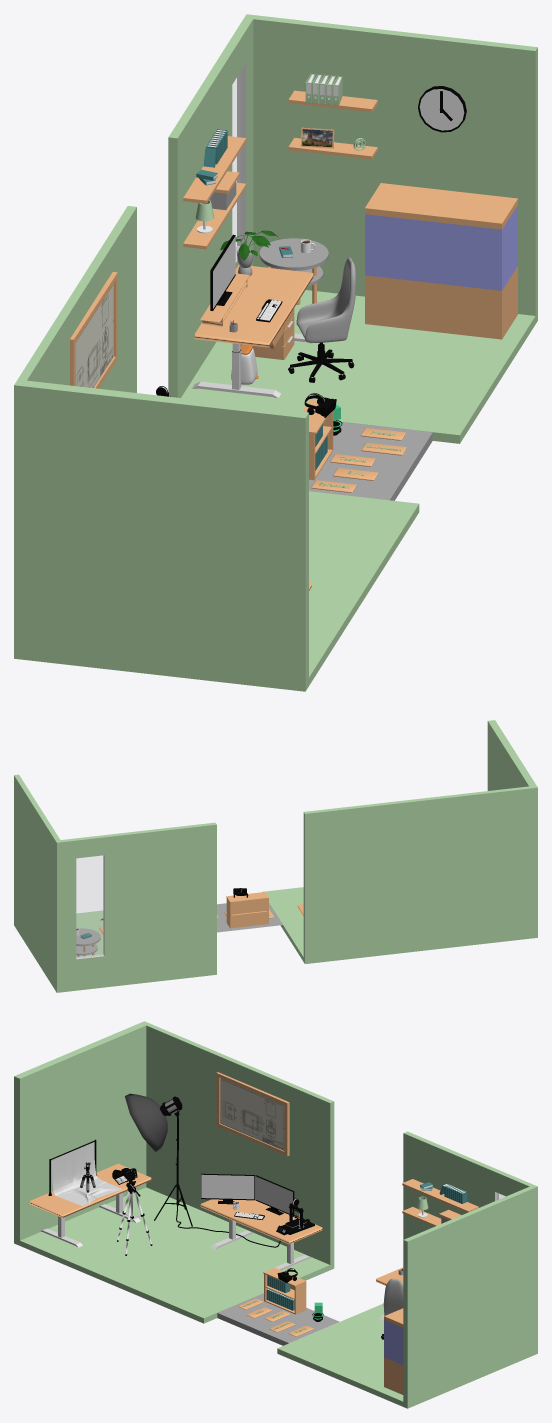
Rendered from tableexport.glb.
The picture shows the model from 3 angles, top to bottom: view 1: azimuth 30°, elevation 25°; view 2: azimuth 150°, elevation 25°; view 3: azimuth 270°, elevation 25°; orthographic projection. The views are drawn at different scales.
Visible parts, largest first — view 1: WallRoom3, Wall, Base, Glas, FloorRoom2, TableTop, Shelfs, BildTechZeich, Chair, TableSmall, Clock, BoxFrame.001 (+8 smaller); view 2: WallRoom3, Wall, GlasWindow, BoxFrame.001, FloorRoom2, TableSmall; view 3: WallRoom3, Wall, BildTechZeich, Tuchgestell, FloorRoom2, TableTop.001, SoftboxSchirm, TableTop.002, PcScreen3DL, Shelfs, BoxFrame.001, PcScreen3DR (+7 smaller).
Part boxes in pixels (box(x1,y1,x2,y2)): WallRoom3: box(14, 206, 419, 691); Wall: box(168, 14, 537, 443); Base: box(365, 183, 517, 339); Glas: box(365, 205, 517, 290); FloorRoom2: box(309, 422, 432, 500); TableTop: box(194, 265, 313, 349); Shelfs: box(183, 90, 377, 249); BildTechZeich: box(70, 272, 117, 388); Chair: box(296, 257, 356, 342); TableSmall: box(259, 238, 328, 304); Clock: box(418, 86, 466, 132); BoxFrame.001: box(302, 400, 333, 480); WallRoom3: box(262, 720, 537, 963); Wall: box(14, 774, 216, 992); GlasWindow: box(76, 855, 103, 957); BoxFrame.001: box(226, 892, 268, 928); FloorRoom2: box(217, 903, 282, 932); TableSmall: box(76, 928, 100, 956); WallRoom3: box(14, 1021, 334, 1323); Wall: box(277, 1131, 537, 1408); BildTechZeich: box(216, 1072, 289, 1156); Tuchgestell: box(48, 1139, 122, 1206); FloorRoom2: box(217, 1293, 339, 1345); TableTop.001: box(200, 1199, 322, 1244); SoftboxSchirm: box(125, 1093, 167, 1151); TableTop.002: box(29, 1163, 151, 1217); PcScreen3DL: box(201, 1174, 254, 1199); Shelfs: box(402, 1179, 478, 1226); BoxFrame.001: box(263, 1267, 306, 1314); PcScreen3DR: box(255, 1176, 292, 1213).
Size of the model in its own units: 60.87 by 21.52 by 61.14.
Materials: 99 (4 with a texture image).
